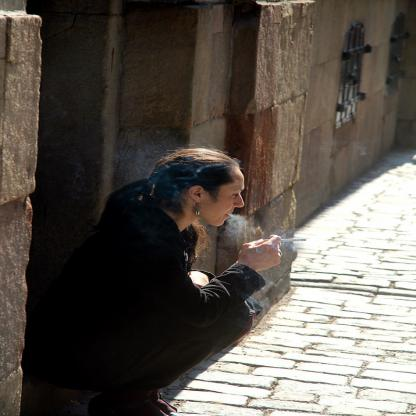smoking: (264, 238, 306, 242)
